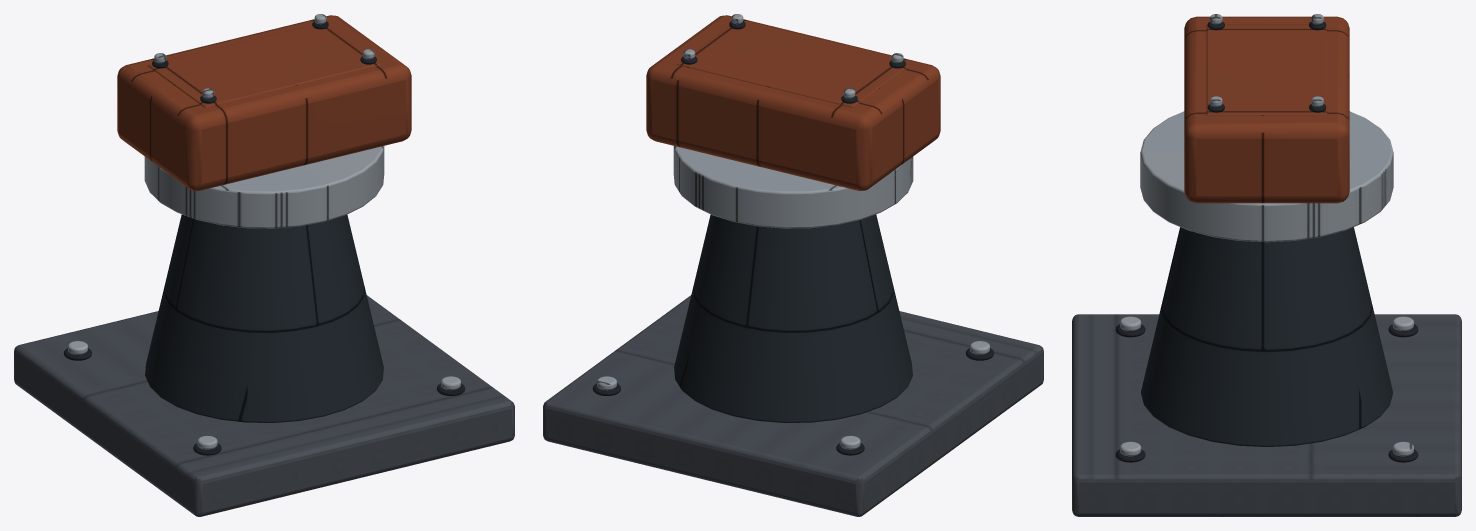
Rendered from ops_gantry_swivel_pedestal_lod0.glb.
3 renders of one model, left to right at view 1: azimuth 30°, elevation 25°; view 2: azimuth 150°, elevation 25°; view 3: azimuth 270°, elevation 25°, orthographic. The views are drawn at different scales.
Parts seen in each view (by area): view 1: LOD0_Mechanical, LOD0_Armor, LOD0_MOTION_GANTRY_YAW_Hull, LOD0_BrushedMetal, LOD0_MechanicalDark; view 2: LOD0_Mechanical, LOD0_Armor, LOD0_MOTION_GANTRY_YAW_Hull, LOD0_BrushedMetal, LOD0_MechanicalDark; view 3: LOD0_Mechanical, LOD0_Armor, LOD0_MOTION_GANTRY_YAW_Hull, LOD0_BrushedMetal, LOD0_MechanicalDark, LOD0_MOTION_GANTRY_YAW_BrushedMetal, LOD0_MOTION_GANTRY_YAW_MechanicalDark.
Boxes of the visible parts, x1,y1,x2,y2 form: LOD0_Mechanical: (14,295,514,516); LOD0_Armor: (145,214,383,422); LOD0_MOTION_GANTRY_YAW_Hull: (117,15,411,190); LOD0_BrushedMetal: (68,146,460,449); LOD0_MechanicalDark: (63,348,465,455); LOD0_Mechanical: (543,295,1043,516); LOD0_Armor: (674,214,912,422); LOD0_MOTION_GANTRY_YAW_Hull: (646,15,940,190); LOD0_BrushedMetal: (597,146,989,449); LOD0_MechanicalDark: (592,348,994,455); LOD0_Mechanical: (1072,314,1461,516); LOD0_Armor: (1141,227,1392,446); LOD0_MOTION_GANTRY_YAW_Hull: (1184,16,1349,203); LOD0_BrushedMetal: (1120,111,1413,456); LOD0_MechanicalDark: (1115,324,1418,462); LOD0_MOTION_GANTRY_YAW_BrushedMetal: (1210,14,1323,106); LOD0_MOTION_GANTRY_YAW_MechanicalDark: (1207,21,1326,112).
Bounding box in the file's own units: 2 × 2.15 × 2.
Materials: 5 (5 with a texture image).
